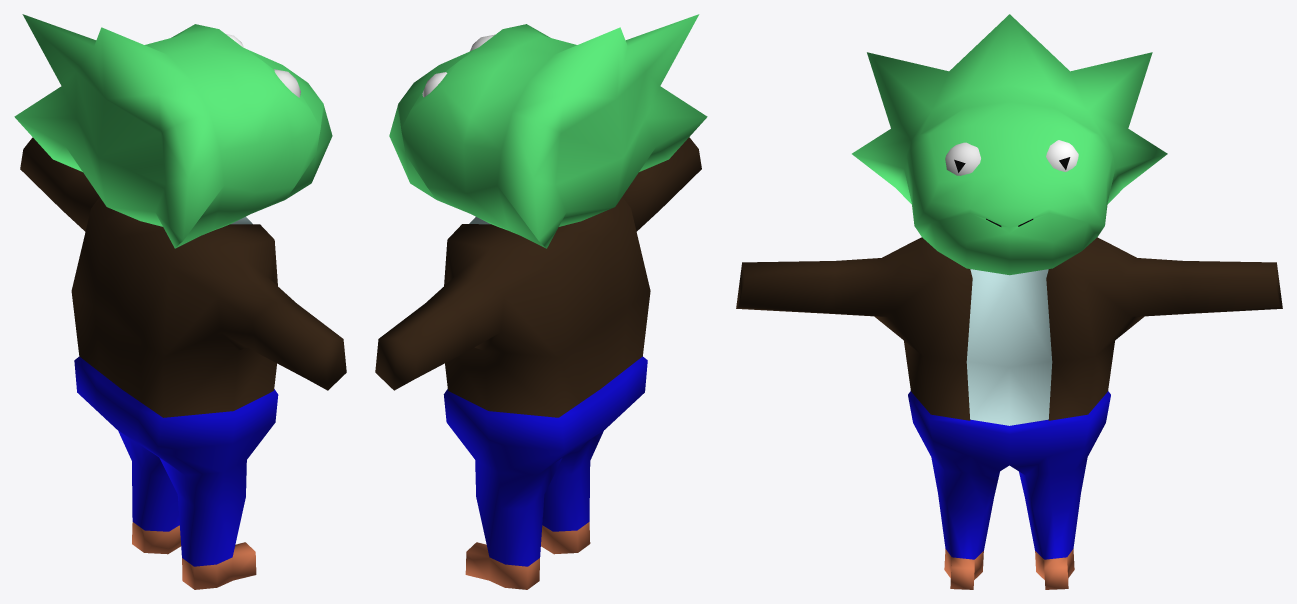
Rendered from froggo.fbx.
3 renders of one model, left to right at view 1: azimuth 30°, elevation 25°; view 2: azimuth 150°, elevation 25°; view 3: azimuth 270°, elevation 25°, orthographic. The views are drawn at different scales.
Parts seen in each view (by area): view 1: Cube.001, Cube; view 2: Cube.001, Cube; view 3: Cube.001, Cube, Icosphere.001, Icosphere.
Part boxes in pixels (x1,y1,x2,y2): Cube.001: [20, 137, 346, 589]; Cube: [14, 14, 332, 248]; Cube.001: [375, 137, 701, 589]; Cube: [389, 14, 707, 248]; Cube.001: [736, 237, 1282, 589]; Cube: [852, 14, 1167, 275]; Icosphere.001: [945, 142, 980, 175]; Icosphere: [1046, 140, 1078, 171].
Size of the model in its own units: 166 by 406 by 386.
